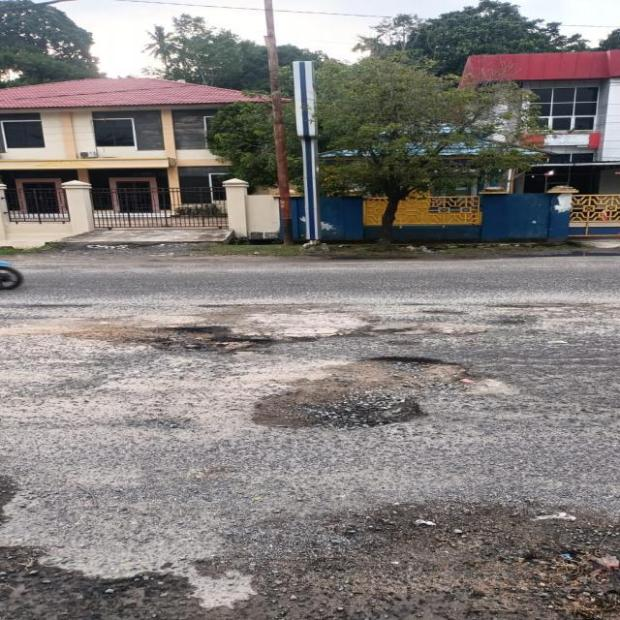lubang: (253, 356, 467, 427), (102, 326, 279, 351), (290, 324, 438, 343), (484, 299, 619, 312), (414, 302, 475, 318), (483, 309, 537, 326)
